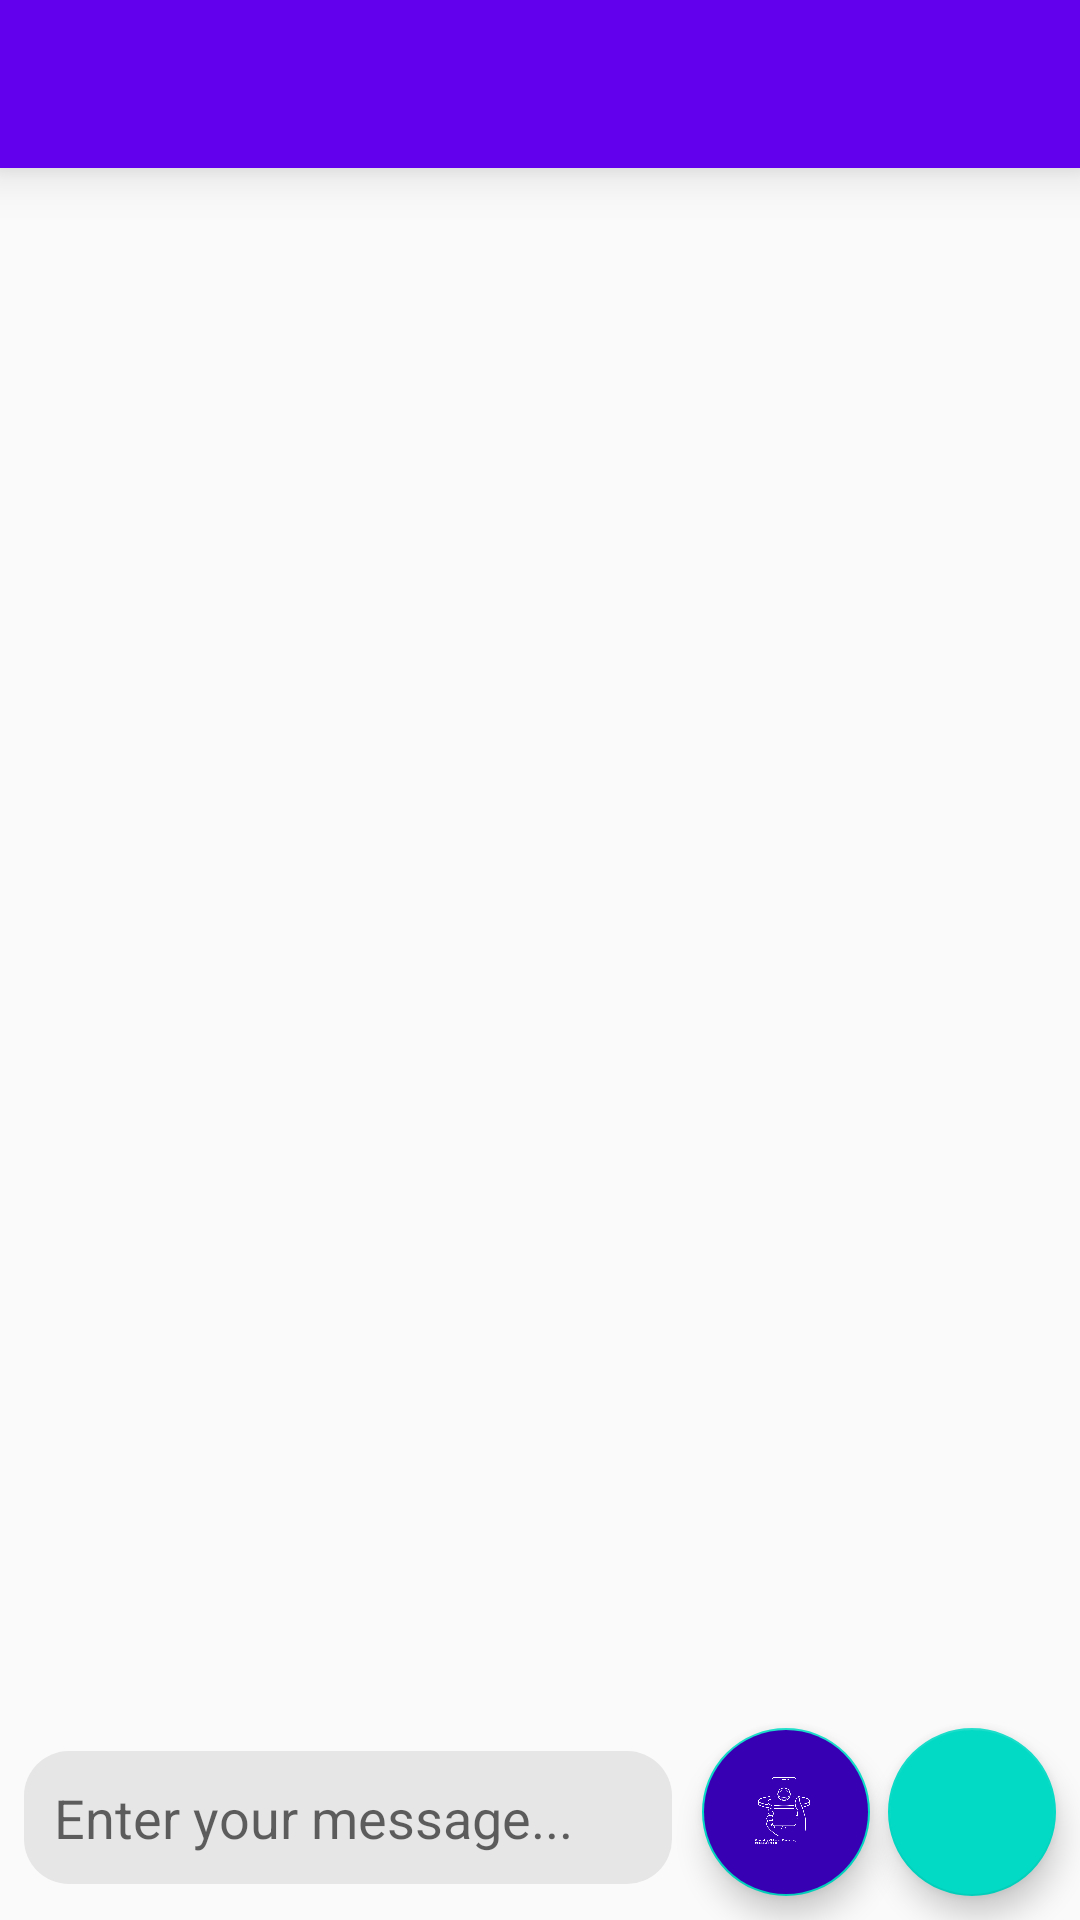

Icon click points for this 1080x1920 phone screenshot, format (x,y):
armode: (786,1812)
